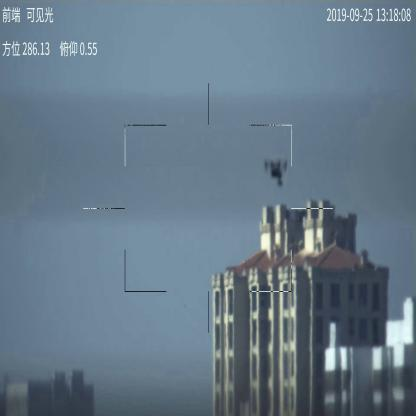uav: (261, 156, 289, 187)
